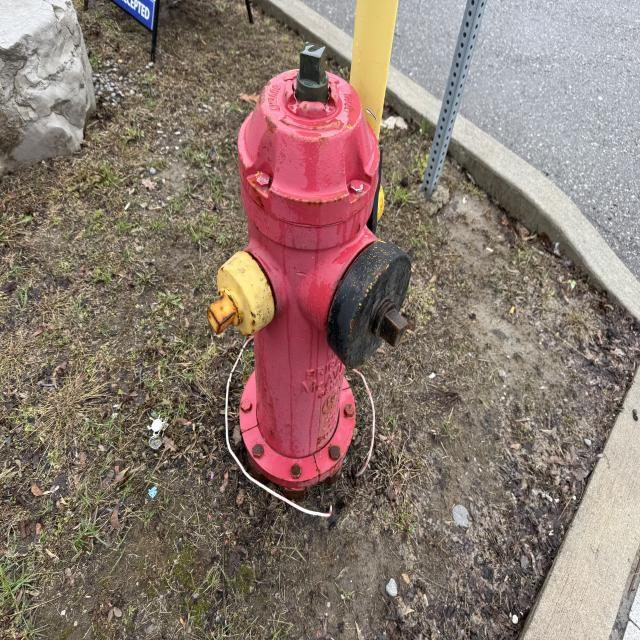Fire hydrant: (206, 42, 413, 500)
